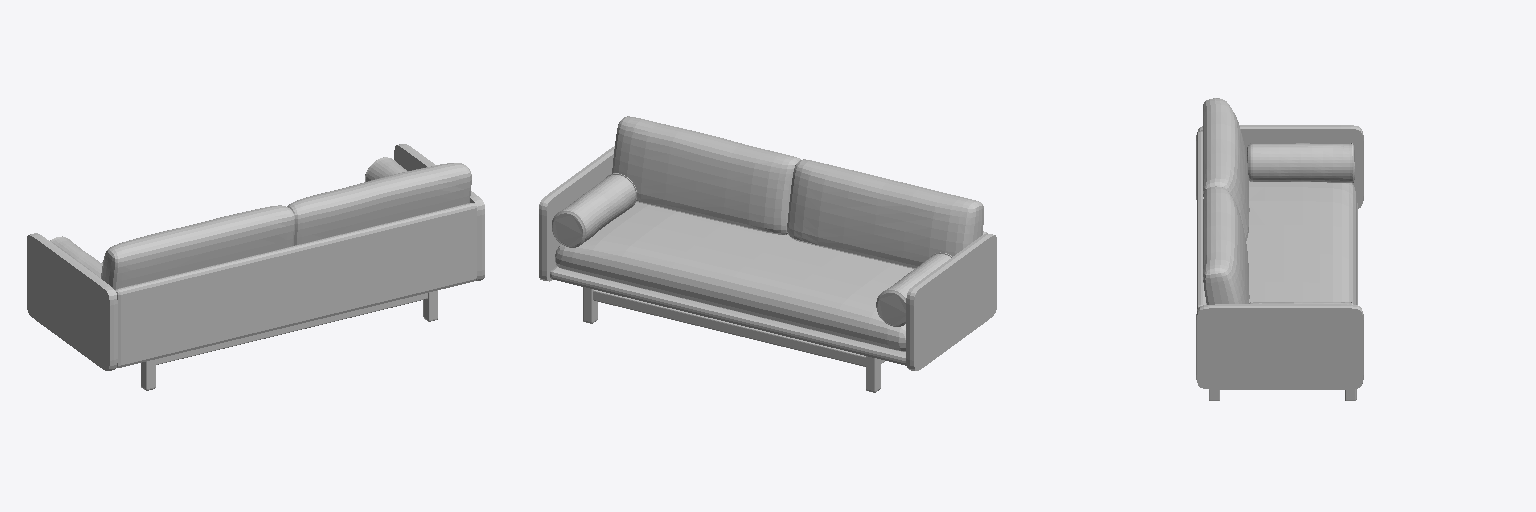
File: couch_real4.obj
3 views of the same model, side by side, from view 1: azimuth 30°, elevation 25°; view 2: azimuth 150°, elevation 25°; view 3: azimuth 270°, elevation 25° (orthographic).
Parts seen in each view (by area): view 1: couch_real; view 2: couch_real; view 3: couch_real.
Part boxes in pixels (x1,y1,x2,y2): couch_real: (27,144,484,390); couch_real: (539,116,996,392); couch_real: (1196,98,1363,400).
Bounding box in the file's own units: 13.84 × 5.22 × 5.35.